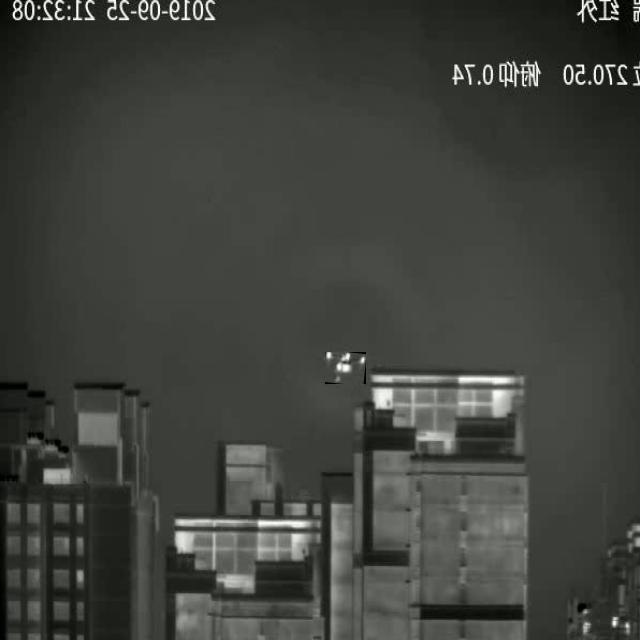drone: (325, 352, 366, 384)
